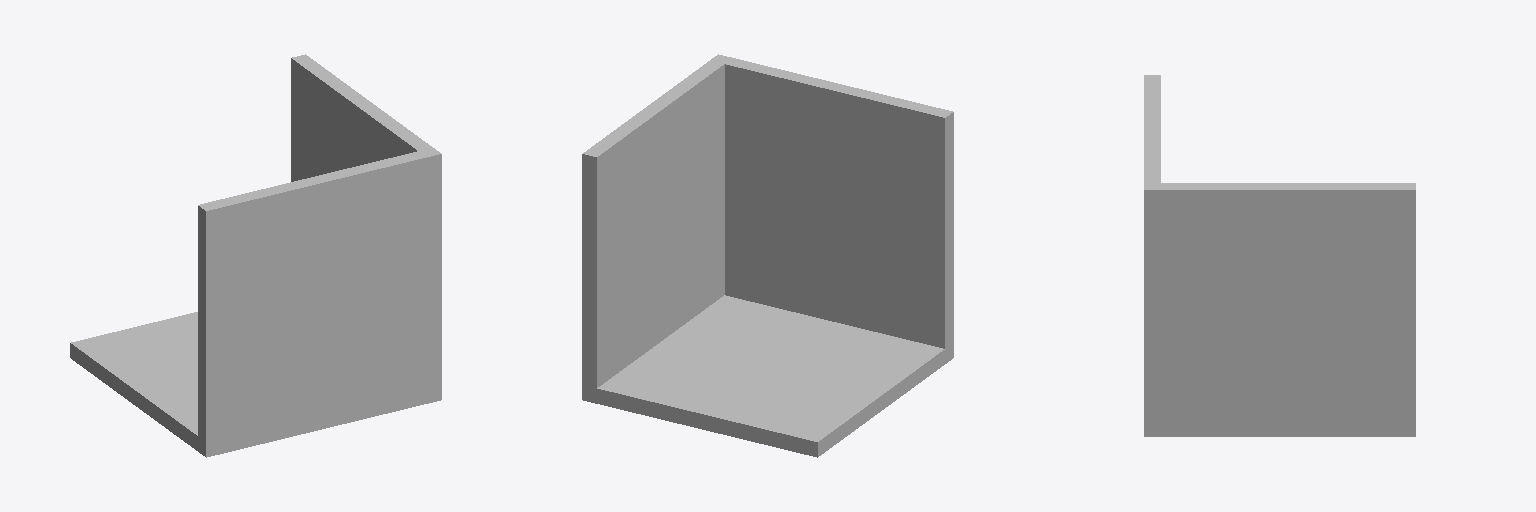
Rendered from corner_se.obj.
The picture shows the model from 3 angles: view 1: azimuth 30°, elevation 25°; view 2: azimuth 150°, elevation 25°; view 3: azimuth 270°, elevation 25°; orthographic projection.
Visible parts, largest first — view 1: wall, floor; view 2: wall, floor; view 3: wall, floor.
Part boxes in pixels (x1,y1,x2,y2): wall: (198, 54, 441, 441); floor: (70, 312, 441, 457); wall: (582, 54, 953, 387); floor: (582, 295, 953, 457); wall: (1144, 75, 1415, 420); floor: (1144, 421, 1415, 436).
Bounding box in the file's own units: 16 × 16 × 16.